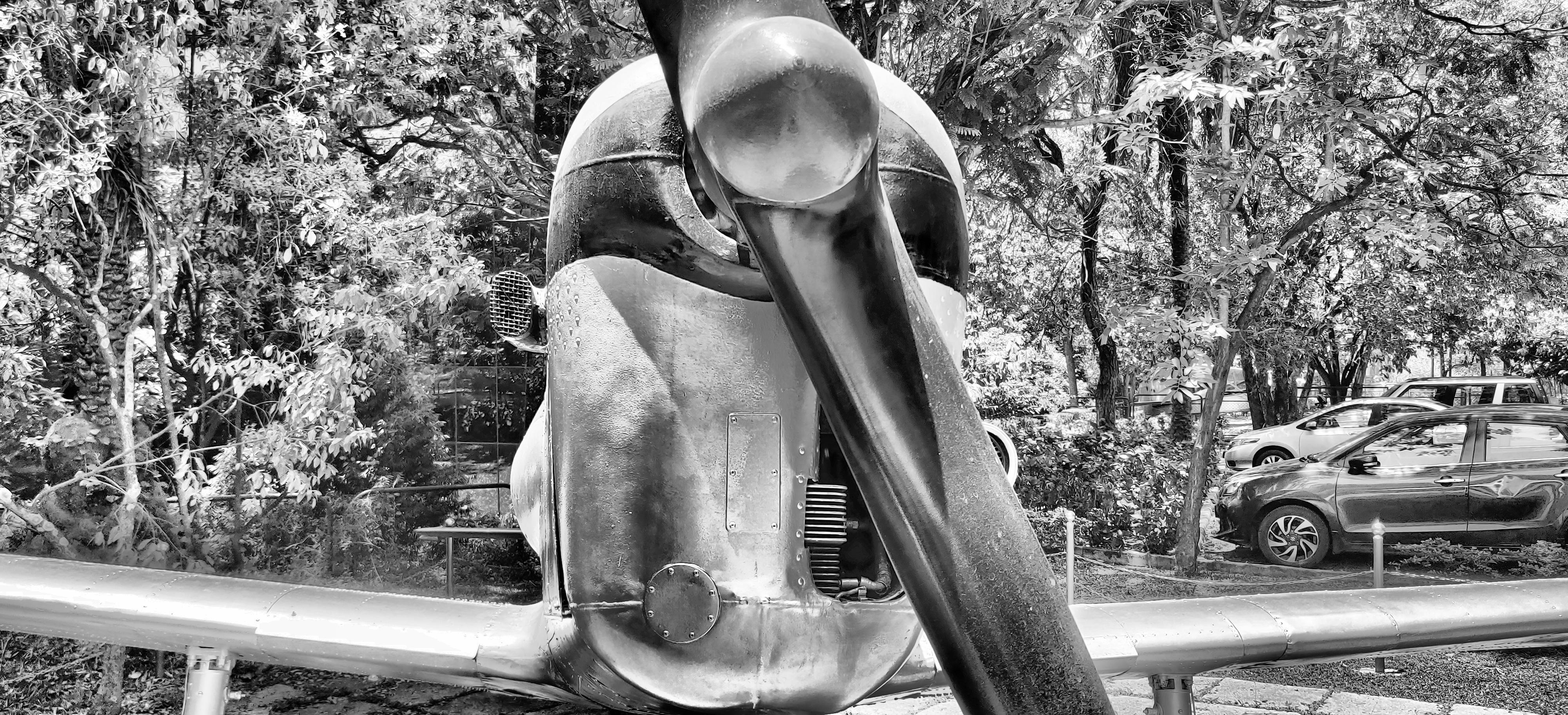crack: (587, 673, 631, 701), (472, 643, 480, 664)
dent: (784, 559, 845, 617), (716, 569, 781, 621), (714, 689, 759, 710), (917, 655, 936, 669), (766, 645, 778, 666), (81, 619, 106, 627), (1286, 639, 1298, 646), (1284, 648, 1293, 655), (1274, 617, 1282, 622)
scratch: (617, 554, 623, 567)
